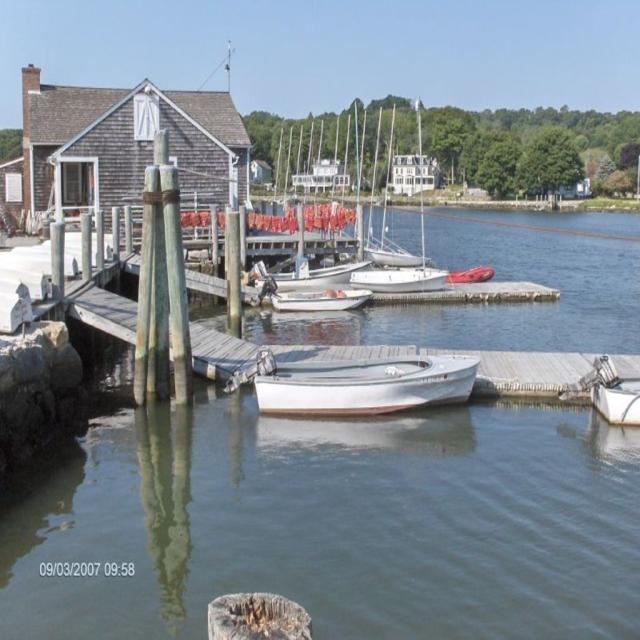Boat: (275, 95, 447, 293), (238, 322, 487, 414), (556, 352, 639, 428), (258, 261, 374, 314)
